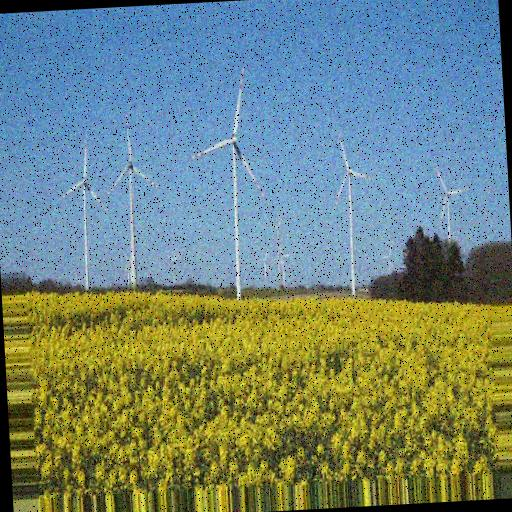wind turbine: (190, 67, 266, 302), (111, 129, 161, 289), (58, 142, 108, 291), (337, 141, 374, 298), (433, 164, 470, 245)
